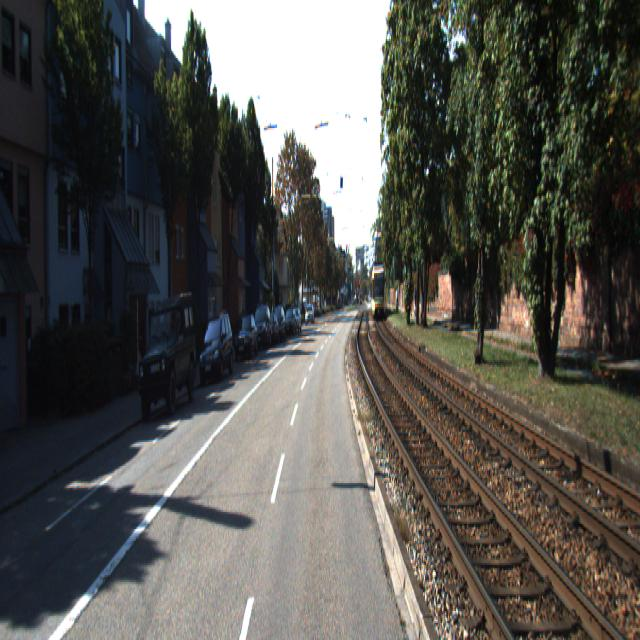Car: (137, 289, 197, 424), (198, 312, 234, 389), (234, 312, 258, 362), (252, 300, 272, 350), (371, 265, 386, 322)
